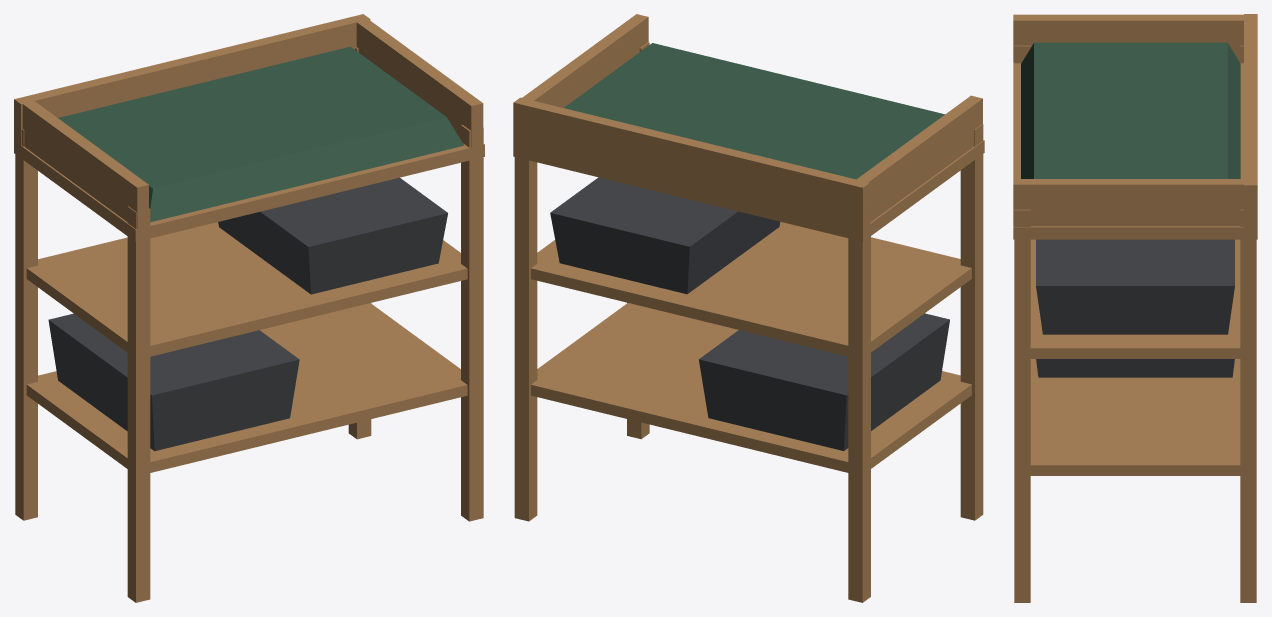
The model's file is FN_Table_Changing.glb.
The picture shows the model from 3 angles, left to right: view 1: azimuth 30°, elevation 25°; view 2: azimuth 150°, elevation 25°; view 3: azimuth 270°, elevation 25°; orthographic projection.
Parts seen in each view (by area): view 1: FN_Table_Changing; view 2: FN_Table_Changing; view 3: FN_Table_Changing.
Part boxes in pixels (<box>): FN_Table_Changing: <box>14,14,484,602</box>; FN_Table_Changing: <box>513,14,984,602</box>; FN_Table_Changing: <box>1013,14,1257,602</box>.
Bounding box in the file's own units: 0.88 × 1 × 0.53.
1 material, 1 textured.
